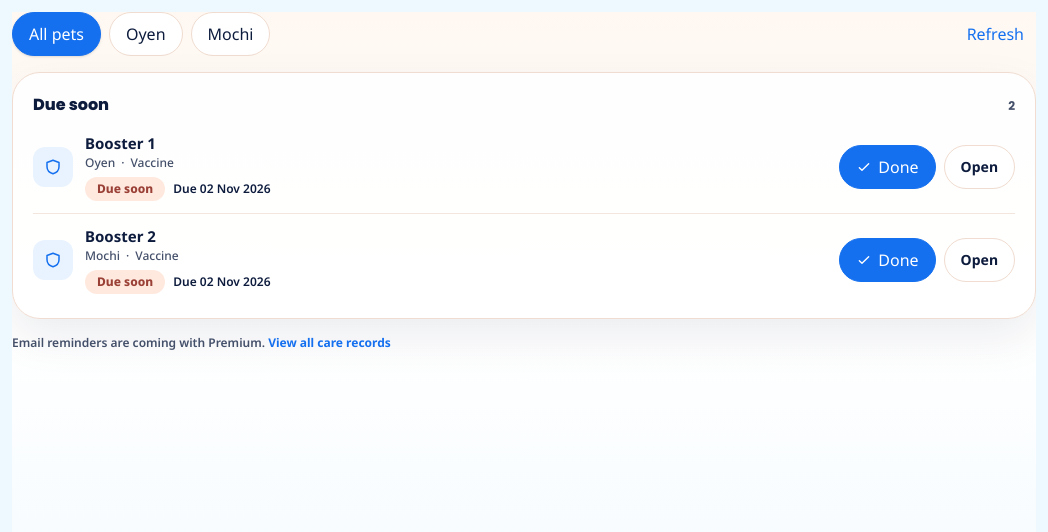
The care planner › narrows to one pet, keeps the choice in the address, and asks the server for that pet only
The width and height of the screenshot is (1048, 532).
Expected: the text "Booster 2" is shown, [85, 226, 156, 246]
Click the button "Mochi".
click(230, 34)  # box [190, 12, 270, 56]
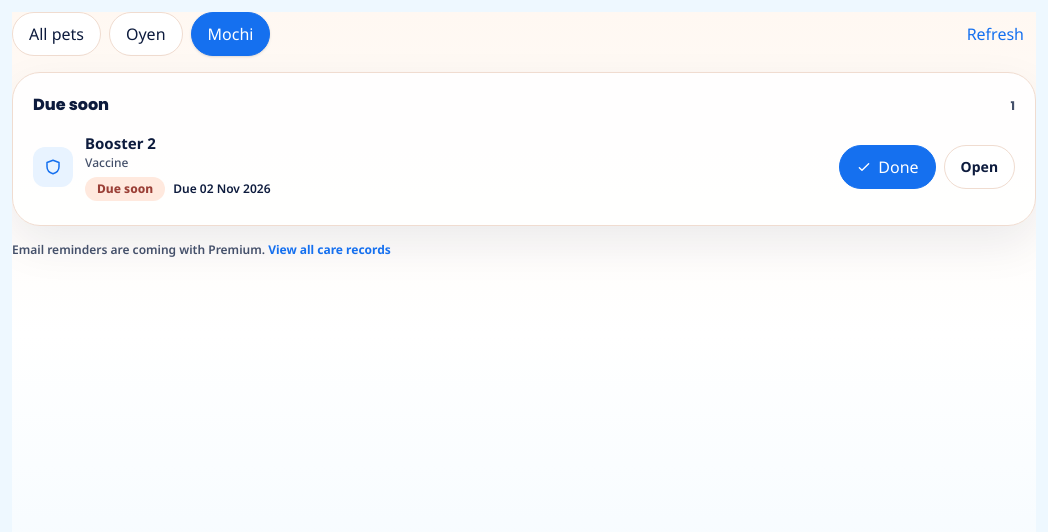
Expected: the text "Booster 2" is shown, [85, 133, 156, 153]
Now the text "Booster 1" is gone
